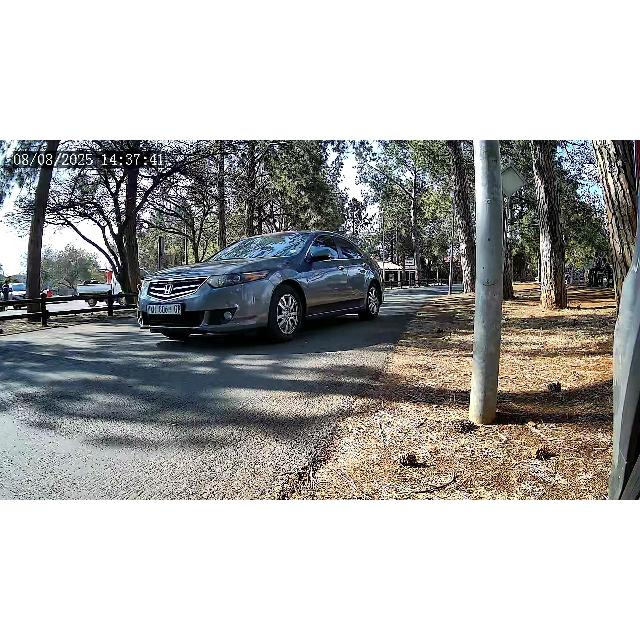car: (136, 229, 384, 343)
plate: (144, 302, 184, 316)
